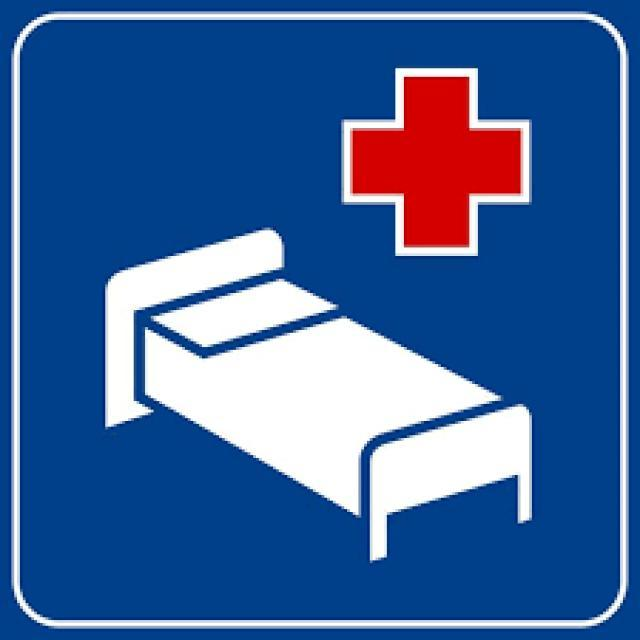hospital ahead: (57, 49, 574, 562)
